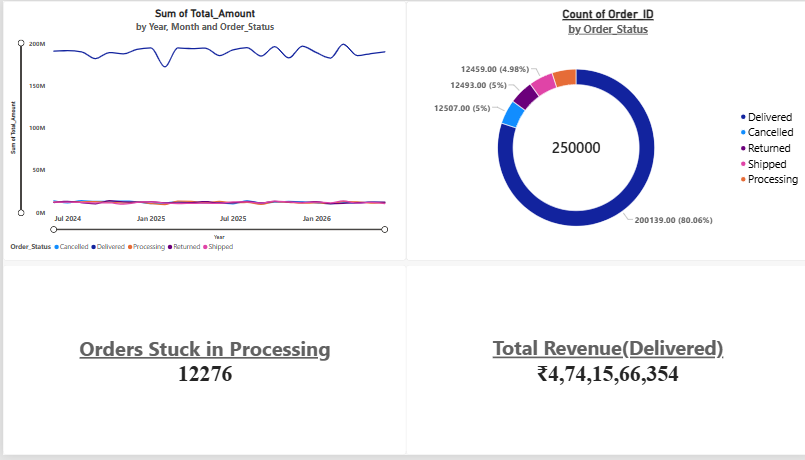

The page's visual inventory and layout, read from the dashboard file:
{"tool":"powerbi","page":{"name":"Overview","canvas":[1920,1080],"ordinal":0},"visuals":[{"type":"lineChart","fields":{"Category":["ecommerce_analytics sales.Order_Date.Variation.Date Hierarchy.Year","ecommerce_analytics sales.Order_Date.Variation.Date Hierarchy.Month"],"Series":["ecommerce_analytics sales.Order_Status"],"Y":["Sum(ecommerce_analytics sales.Total_Amount)"]},"box":[0,0,960,617.5],"z":0},{"type":"donutChart","fields":{"Category":["ecommerce_analytics sales.Order_Status"],"Y":["CountNonNull(ecommerce_analytics sales.Order_ID)"]},"box":[960,0,960,617.5],"z":1},{"type":"cardVisual","fields":{"Data":["sales.Orders Stuck in Processing"]},"box":[0,628,960,452],"z":2},{"type":"cardVisual","fields":{"Data":["Sum(sales.Total_Amount)"]},"box":[960,628,960,452],"z":3}]}

Visuals, with their boxes in screenshot pixels (x1, y1, x2, y2), scaled from the page's 1920x1080 canvas onto the 805x460 screenshot:
lineChart - ecommerce_analytics sales.Order_Date.Variation.Date Hierarchy.Year x ecommerce_analytics sales.Order_Date.Variation.Date Hierarchy.Month: (0,0,402,263)
donutChart - ecommerce_analytics sales.Order_Status x CountNonNull(ecommerce_analytics sales.Order_ID): (402,0,804,263)
cardVisual - sales.Orders Stuck in Processing: (0,267,402,459)
cardVisual - Sum(sales.Total_Amount): (402,267,804,459)
